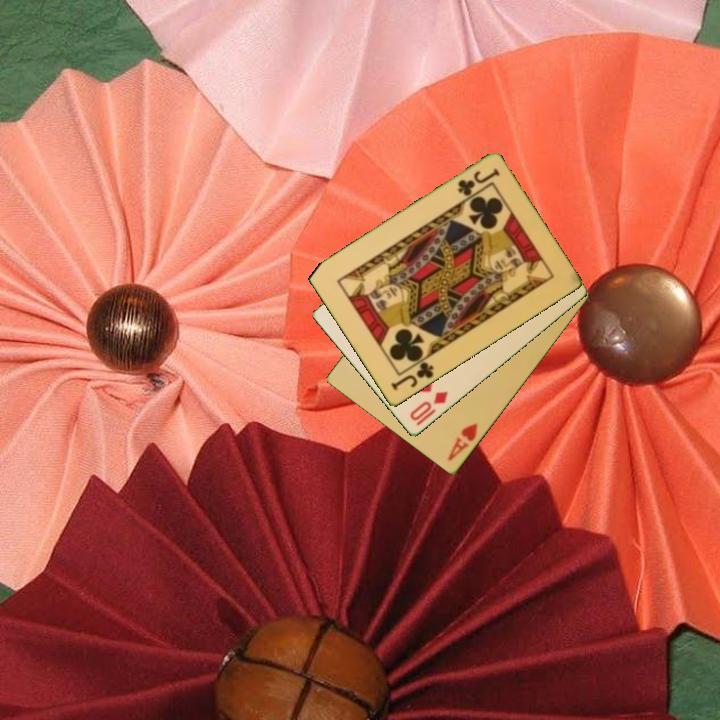10d: (406, 388, 451, 424)
Ah: (444, 420, 481, 464)
Jc: (387, 358, 437, 394), (454, 165, 502, 199)
